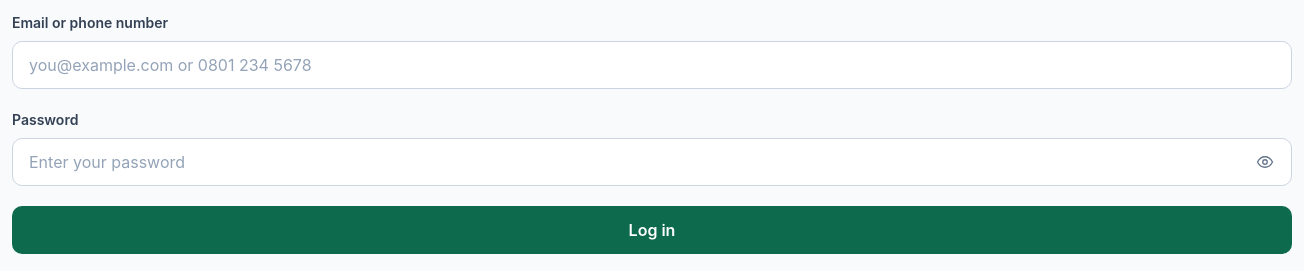
Test: <LoginForm /> › toggles password visibility without changing the value
The image size is (1304, 271).
Type "Password123!" into the password field labelled "Password" at (630, 162), box [13, 139, 1247, 185]
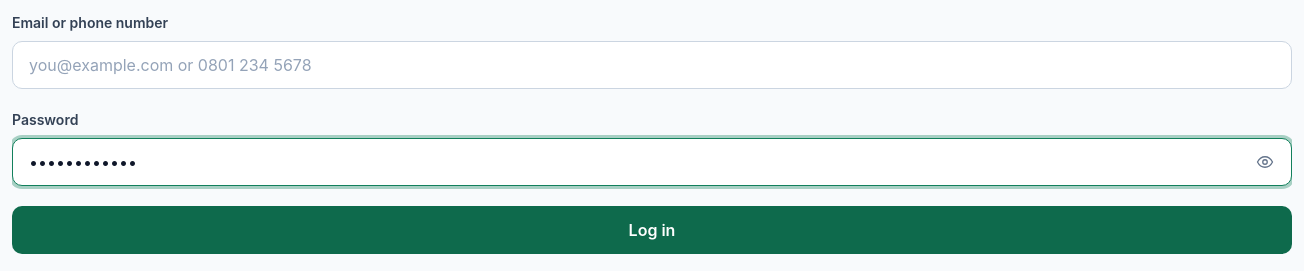
Click the button named "show password" at (1265, 162), box [1247, 144, 1283, 180]
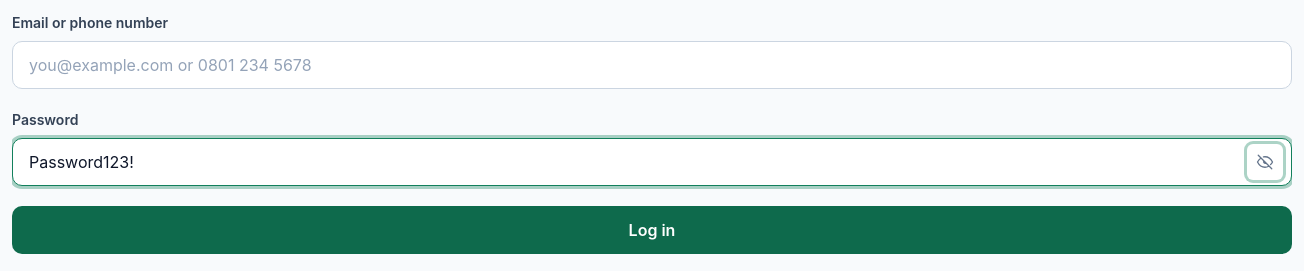
Expected: the field labelled "Password" shows its text, [13, 139, 1247, 185]
Click the button named "hide password" at (1265, 162), box [1247, 144, 1283, 180]
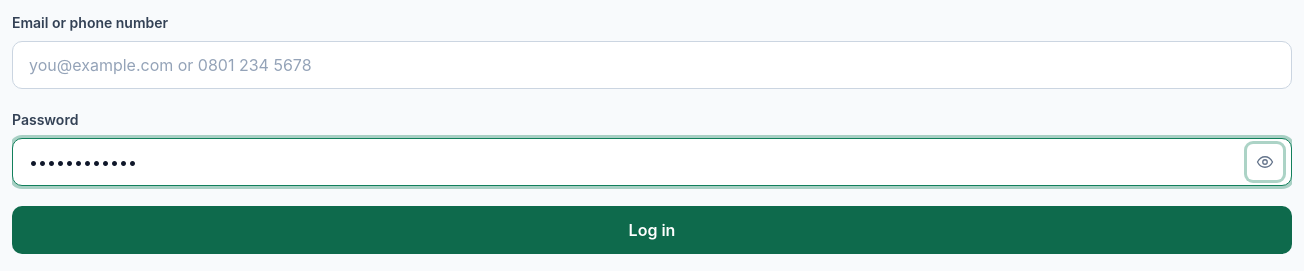
Expected: the password field labelled "Password" hides its text, [13, 139, 1247, 185]
